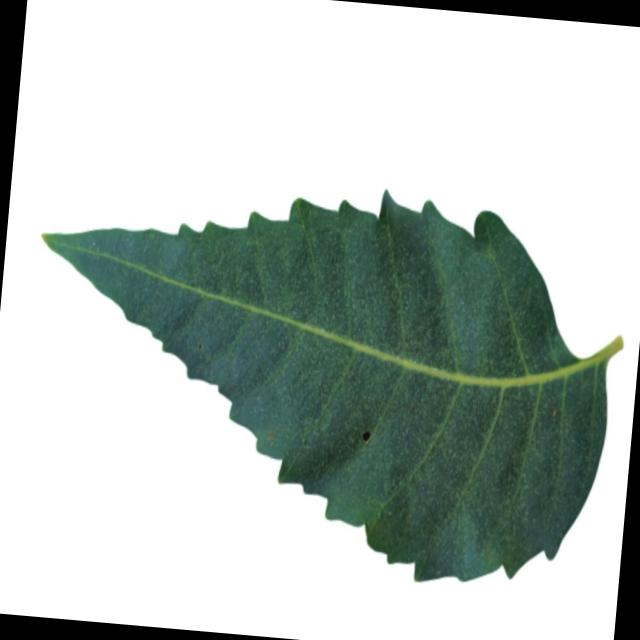Medicinal-Neem: (6, 154, 636, 595)
